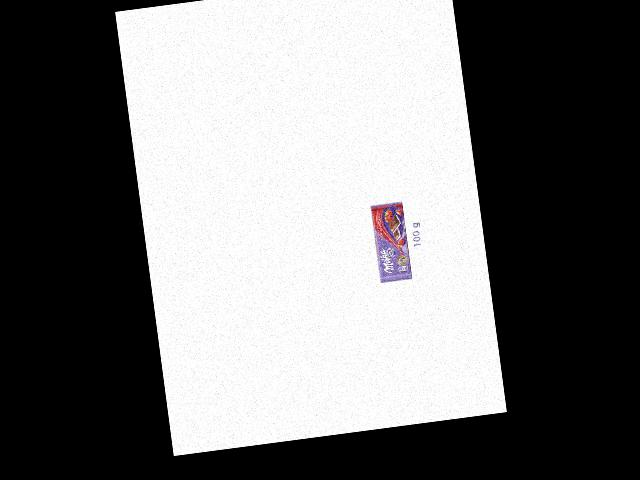chocolate: (370, 200, 416, 282)
